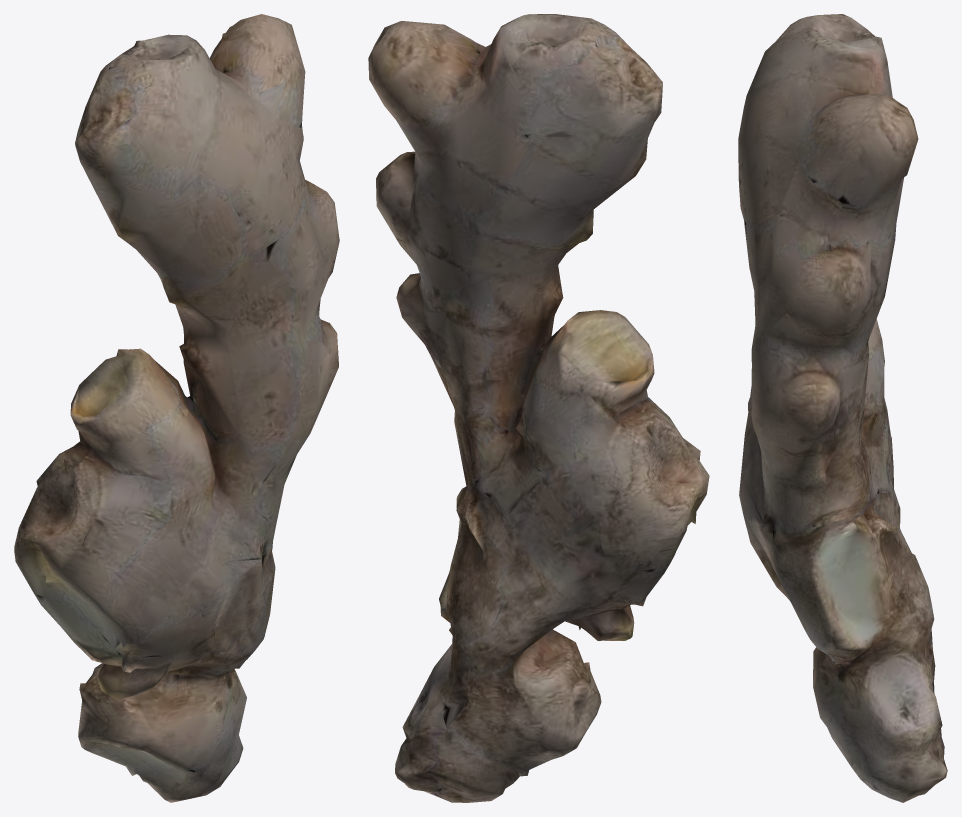
Rendered from food_ginger_01.glb.
3 views of the same model, side by side, from view 1: azimuth 30°, elevation 25°; view 2: azimuth 150°, elevation 25°; view 3: azimuth 270°, elevation 25° (orthographic). The views are drawn at different scales.
Parts seen in each view (by area): view 1: food_ginger_01; view 2: food_ginger_01; view 3: food_ginger_01.
Boxes of the visible parts, bbox=[...] form: food_ginger_01: bbox=[14, 14, 339, 802]; food_ginger_01: bbox=[368, 14, 709, 802]; food_ginger_01: bbox=[738, 14, 947, 802].
Bounding box in the file's own units: 0.2398 × 0.5746 × 0.1472.
1 material, 1 textured.
